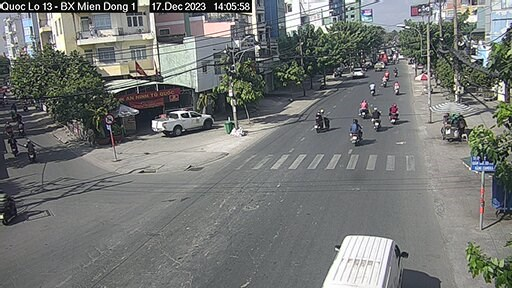car: (325, 228, 409, 288), (150, 110, 214, 136), (353, 66, 364, 79)
motorbike: (311, 108, 330, 134), (347, 119, 363, 146), (358, 98, 373, 118), (385, 105, 398, 126), (369, 109, 381, 131), (389, 81, 400, 97), (369, 79, 377, 97)
